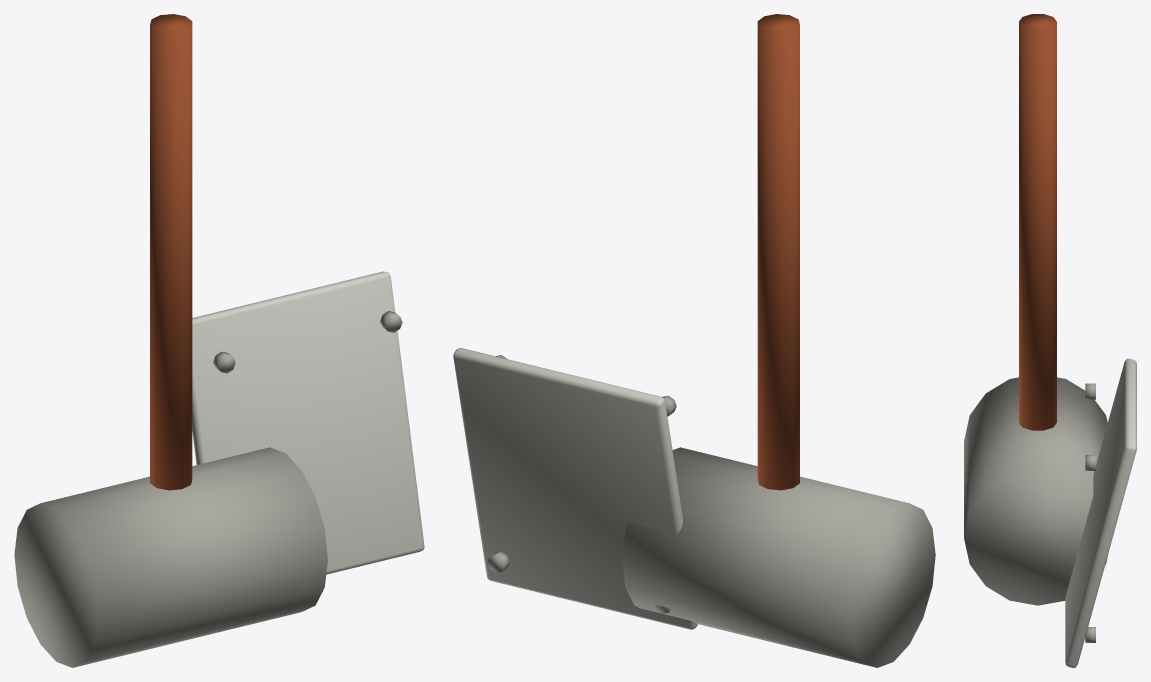
File: mallet.glb
3 views of the same model, side by side, from view 1: azimuth 30°, elevation 25°; view 2: azimuth 150°, elevation 25°; view 3: azimuth 270°, elevation 25° (orthographic). The views are drawn at different scales.
Parts seen in each view (by area): view 1: head, plate, handle; view 2: head, plate, handle; view 3: head, handle, plate.
Part boxes in pixels (left/top/right/bottom): head: left=14, top=447, right=327, bottom=667; plate: left=192, top=271, right=424, bottom=574; handle: left=150, top=14, right=192, bottom=490; head: left=622, top=447, right=935, bottom=667; plate: left=453, top=348, right=697, bottom=629; handle: left=757, top=14, right=799, bottom=490; head: left=964, top=377, right=1108, bottom=605; handle: left=1019, top=14, right=1056, bottom=430; plate: left=1065, top=358, right=1136, bottom=667.
Bounding box in the file's own units: 0.37 × 0.56 × 0.1639.
